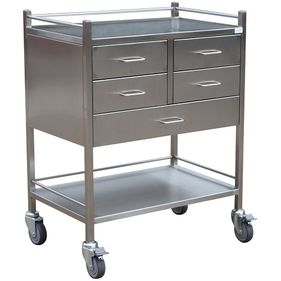Carts: (22, 1, 257, 279)
